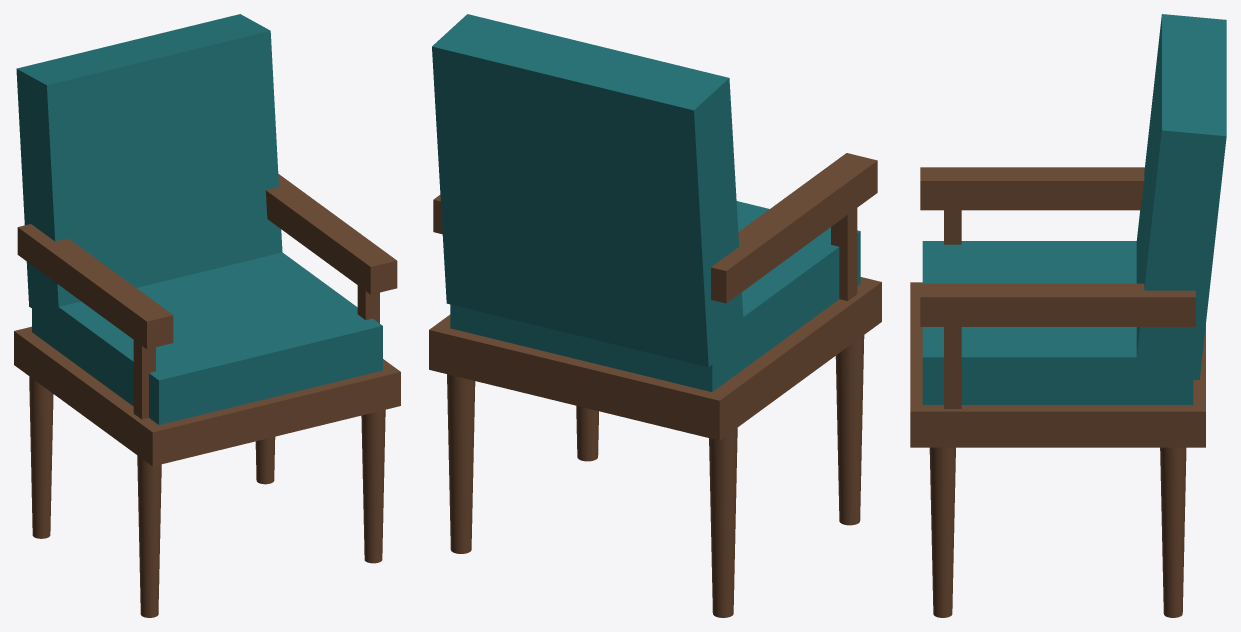
The model's file is lounge-chair-lod0.glb.
3 renders of one model, left to right at view 1: azimuth 30°, elevation 25°; view 2: azimuth 150°, elevation 25°; view 3: azimuth 270°, elevation 25°, orthographic. The views are drawn at different scales.
Visible parts, largest first — view 1: back-cushion, seat-cushion, seat-frame, arm (×2), leg (×4), arm-post (×2); view 2: back-cushion, seat-frame, seat-cushion, leg (×4), arm, arm-post; view 3: seat-cushion, back-cushion, arm (×2), seat-frame, leg (×2), arm-post (×2).
Boxes of the visible parts, box(x1,y1,x2,y2) form: back-cushion: box(16, 14, 282, 320); seat-cushion: box(32, 252, 382, 424); seat-frame: box(14, 326, 400, 466); arm (×2): box(17, 174, 397, 349); leg (×4): box(29, 376, 385, 617); arm-post (×2): box(133, 285, 379, 419); back-cushion: box(432, 14, 744, 367); seat-frame: box(429, 277, 881, 440); seat-cushion: box(450, 201, 860, 391); leg (×4): box(447, 335, 864, 617); arm: box(711, 153, 877, 303); arm-post: box(831, 208, 857, 300); seat-cushion: box(922, 241, 1193, 404); back-cushion: box(1135, 14, 1226, 380); arm (×2): box(920, 167, 1195, 326); seat-frame: box(910, 282, 1205, 447); leg (×2): box(929, 447, 1186, 617); arm-post (×2): box(944, 210, 961, 408).
Bounding box in the file's own units: 0.615 × 1.07 × 0.6316.
